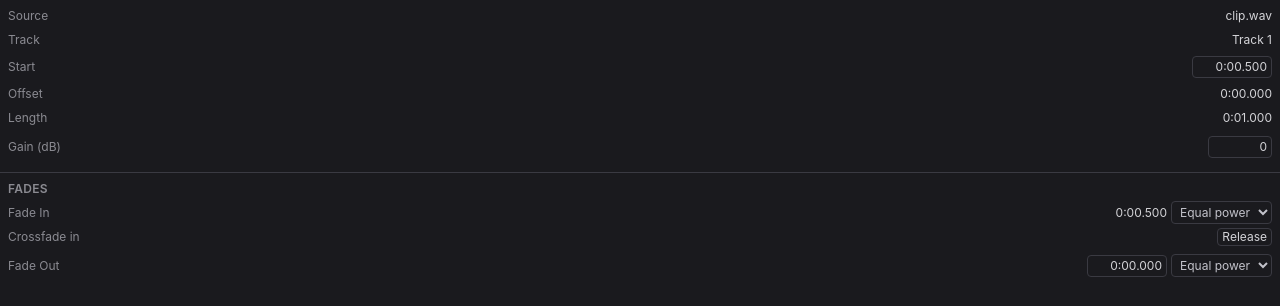
Test: crossfade rows — Arm, Release, and the readout › Release clears BOTH facing fades — nothing lingers as a surprise solo fade
Click the button with test id "crossfade-release-in". click: {"x": 1245, "y": 237}
box: x1=1217 y1=228 x2=1272 y2=246
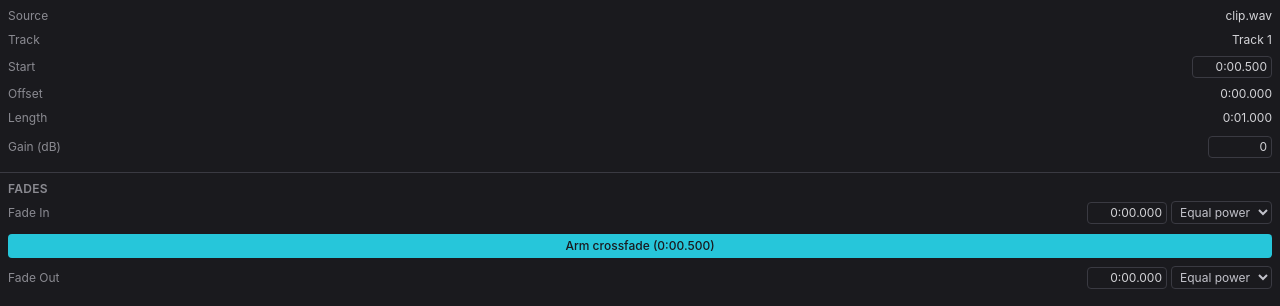
Expected: the text with test id "fade-in-cross-readout" is gone
Expected: the field named "Fade in length" is shown, x1=1087 y1=202 x2=1167 y2=224
